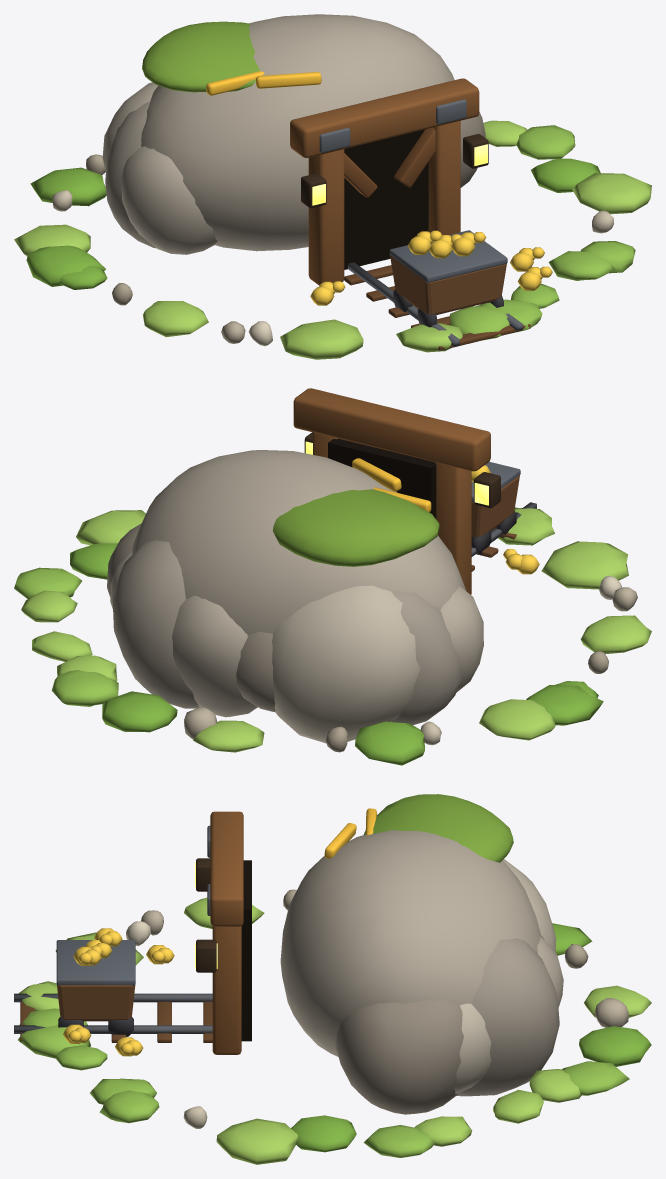
Rendered from m_tiny.glb.
The picture shows the model from 3 angles, top to bottom: view 1: azimuth 30°, elevation 25°; view 2: azimuth 150°, elevation 25°; view 3: azimuth 270°, elevation 25°; orthographic projection. The views are drawn at different scales.
Visible parts, largest first — view 1: root_matte#b4aa9a, root_matte#8a5a30, root_matte#a8d060, mouthDark, root_matte#94c252, root_matte#7fb243, moss, cart, root_metal#5e646c, root_matte#a39a8c, root_matte#7a4e2a, root_gold#ffc63a (+14 smaller); view 2: root_matte#b4aa9a, root_matte#c2b8a6, root_matte#a8d060, root_matte#a39a8c, root_matte#8a5a30, moss, root_matte#7fb243, root_matte#94c252, root_matte#968c7e, mouthDark, cart, root_matte#b8ad98 (+5 smaller); view 3: root_matte#b4aa9a, root_matte#968c7e, root_matte#a39a8c, root_matte#a8d060, root_matte#94c252, root_matte#8a5a30, moss, root_matte#7fb243, root_matte#c2b8a6, root_metal#5e646c, cart, root_metal#5a5e64 (+7 smaller).
Part boxes in pixels (left/top/right/bottom): root_matte#b4aa9a: left=121, top=14, right=454, bottom=254; root_matte#8a5a30: left=290, top=78, right=479, bottom=285; root_matte#a8d060: left=14, top=120, right=651, bottom=359; mouthDark: left=344, top=129, right=428, bottom=269; root_matte#94c252: left=449, top=125, right=635, bottom=339; root_matte#7fb243: left=26, top=158, right=600, bottom=289; moss: left=142, top=21, right=259, bottom=92; cart: left=390, top=255, right=506, bottom=314; root_metal#5e646c: left=319, top=99, right=507, bottom=282; root_matte#a39a8c: left=105, top=101, right=155, bottom=248; root_matte#7a4e2a: left=344, top=127, right=435, bottom=197; root_gold#ffc63a: left=206, top=71, right=321, bottom=95; root_matte#b4aa9a: left=132, top=450, right=483, bottom=717; root_matte#c2b8a6: left=110, top=552, right=420, bottom=743; root_matte#a8d060: left=21, top=507, right=651, bottom=752; root_matte#a39a8c: left=112, top=540, right=461, bottom=724; root_matte#8a5a30: left=293, top=388, right=490, bottom=594; moss: left=273, top=489, right=439, bottom=566; root_matte#7fb243: left=70, top=543, right=603, bottom=765; root_matte#94c252: left=14, top=567, right=118, bottom=706; root_matte#968c7e: left=107, top=523, right=275, bottom=711; mouthDark: left=328, top=438, right=436, bottom=518; cart: left=471, top=475, right=519, bottom=537; root_matte#b8ad98: left=184, top=587, right=637, bottom=739; root_matte#b4aa9a: left=280, top=830, right=563, bottom=1056; root_matte#968c7e: left=335, top=935, right=544, bottom=1114; root_matte#a39a8c: left=456, top=938, right=559, bottom=1096; root_matte#a8d060: left=18, top=897, right=651, bottom=1164; root_matte#94c252: left=18, top=1008, right=629, bottom=1157; root_matte#8a5a30: left=210, top=811, right=243, bottom=1054; moss: left=363, top=794, right=513, bottom=862; root_matte#7fb243: left=291, top=923, right=651, bottom=1152; root_matte#c2b8a6: left=454, top=859, right=556, bottom=1093; root_metal#5e646c: left=56, top=825, right=210, bottom=985; cart: left=57, top=985, right=135, bottom=1021; root_metal#5a5e64: left=14, top=993, right=212, bottom=1033.
Size of the model in its own units: 3.14 by 1.16 by 3.07.
